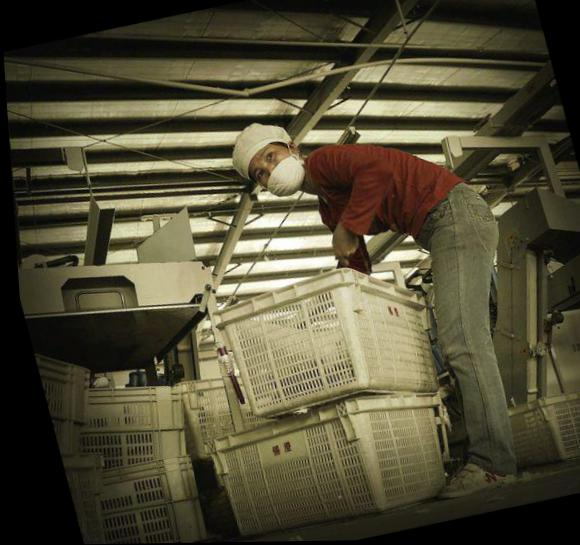WRONG: (243, 141, 305, 202)
